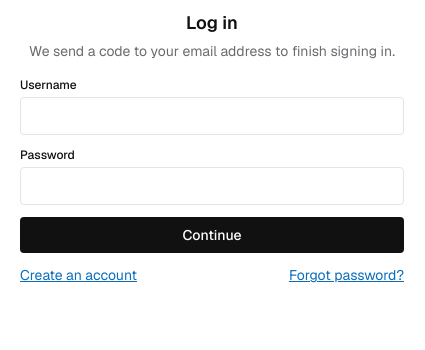
Test: Login › reports a wrong password without saying which part was wrong
Type "alice" into the field labelled "Username" at (212, 116), box [20, 97, 404, 135]
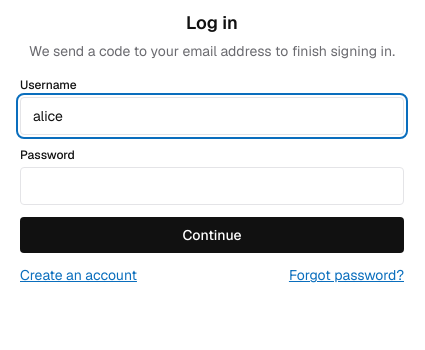
Type "Password123!" into the password field labelled "Password" at (212, 186), box [20, 167, 404, 205]
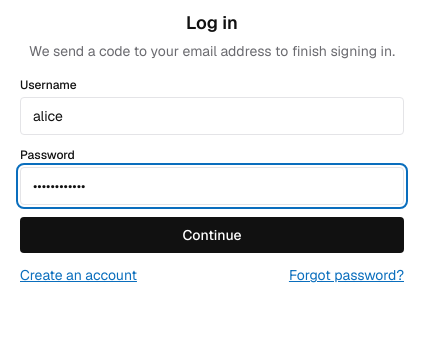
Click the button "Continue" at (212, 235), box [20, 217, 404, 253]
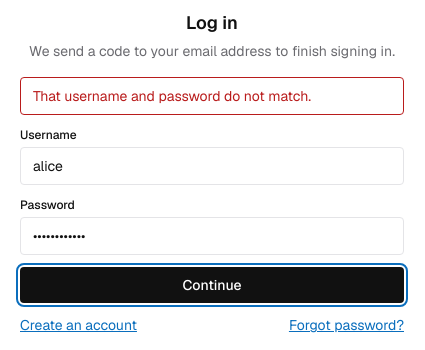
Check: the message shows "do not match", box [33, 87, 311, 105]
